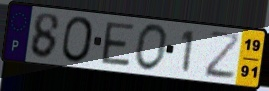1: (179, 30, 196, 75)
8: (30, 11, 62, 60)
E: (100, 20, 136, 68)
O: (133, 22, 170, 73), (61, 15, 96, 65)
Z: (204, 30, 243, 82)
